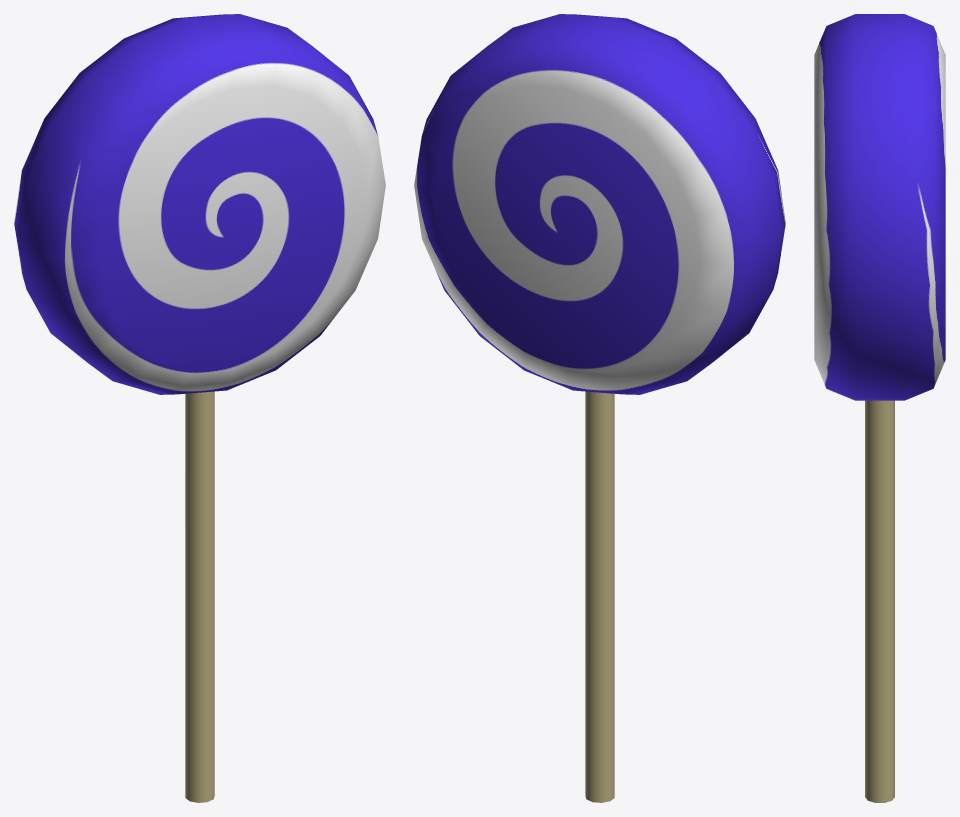
Rendered from Candy_LollipopSwirl-A.FBX.
3 renders of one model, left to right at view 1: azimuth 30°, elevation 25°; view 2: azimuth 150°, elevation 25°; view 3: azimuth 270°, elevation 25°, orthographic.
Visible parts, largest first — view 1: Candy_LollipopSwirl-A; view 2: Candy_LollipopSwirl-A; view 3: Candy_LollipopSwirl-A.
Part boxes in pixels (x1=…): Candy_LollipopSwirl-A: x1=14, y1=14, x2=385, y2=802; Candy_LollipopSwirl-A: x1=414, y1=14, x2=785, y2=802; Candy_LollipopSwirl-A: x1=814, y1=14, x2=945, y2=802.
Bounding box in the file's own units: 1311 × 2844 × 442.
